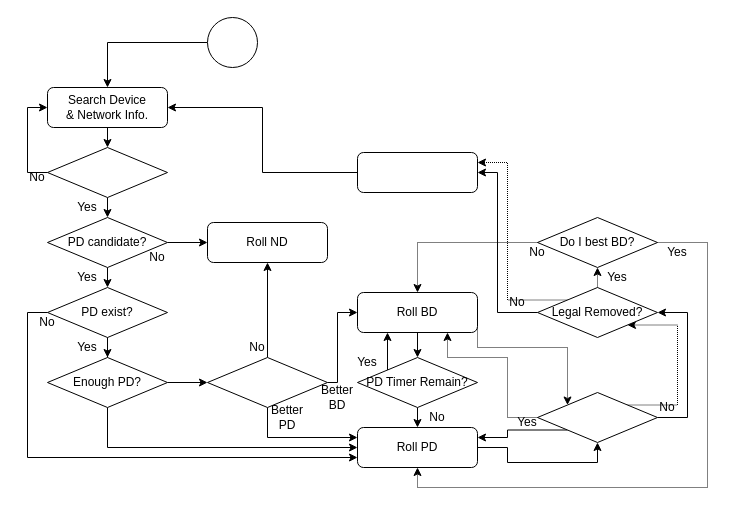
Some shapes in this 733 by 513 pixel diagram are drawn without their labels. Here are the shapes that lost their labels. From the top down, the centre of each, then its label:
the point at 232,42: Enter Network
the point at 107,172: Collect enough Device Info?
the point at 417,172: Remove Provision Data
the point at 267,382: Do I better Score?
the point at 597,417: Security Communication OK?
